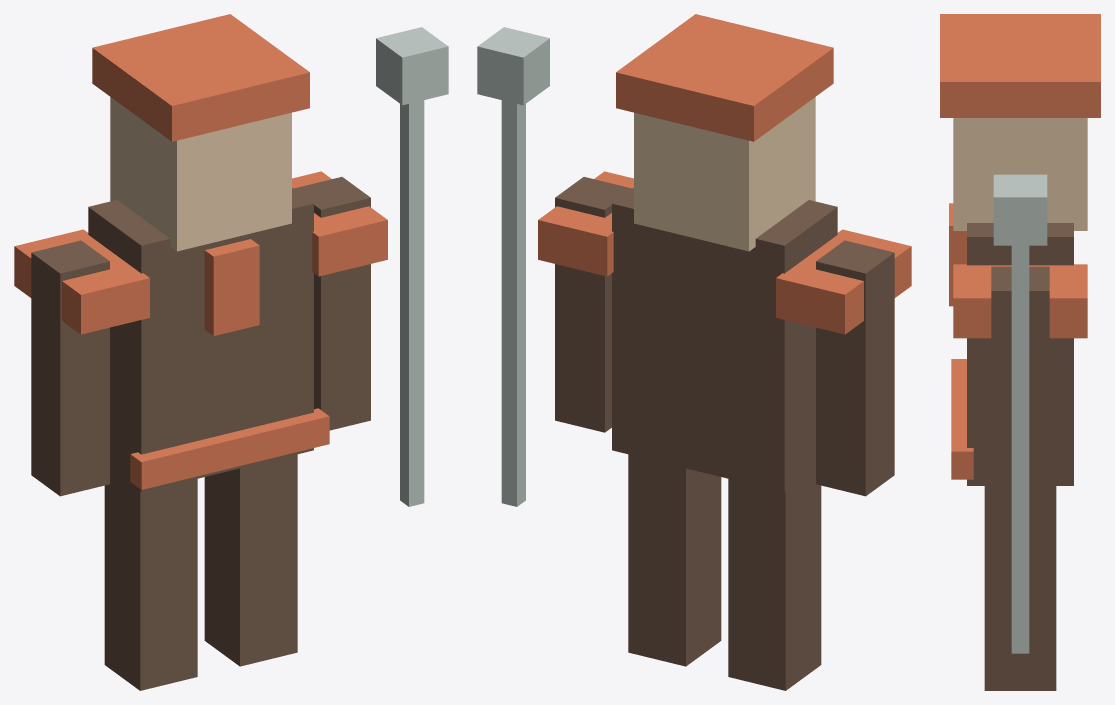
The model's file is 12_vela_cragwarden_guide_of_lexicon.glb.
The picture shows the model from 3 angles, left to right: view 1: azimuth 30°, elevation 25°; view 2: azimuth 150°, elevation 25°; view 3: azimuth 270°, elevation 25°; orthographic projection.
Visible parts, largest first — view 1: Vela Cragwarden, Guide of Lexicon; view 2: Vela Cragwarden, Guide of Lexicon; view 3: Vela Cragwarden, Guide of Lexicon.
Part boxes in pixels (x1,y1,x2,y2): Vela Cragwarden, Guide of Lexicon: [14, 14, 448, 690]; Vela Cragwarden, Guide of Lexicon: [477, 14, 911, 690]; Vela Cragwarden, Guide of Lexicon: [940, 14, 1100, 690].
Size of the model in its own units: 1.03 by 1.51 by 0.364.
